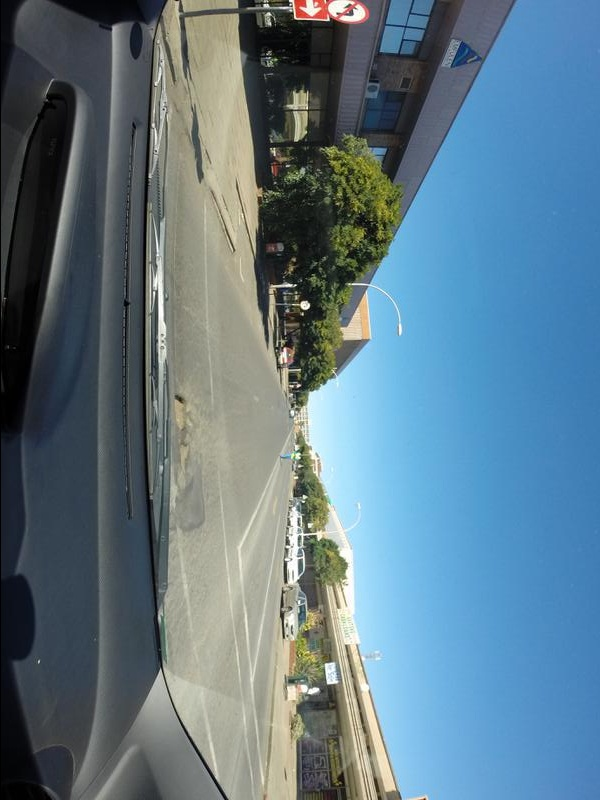pothole: (174, 399, 194, 433), (178, 447, 195, 476)
